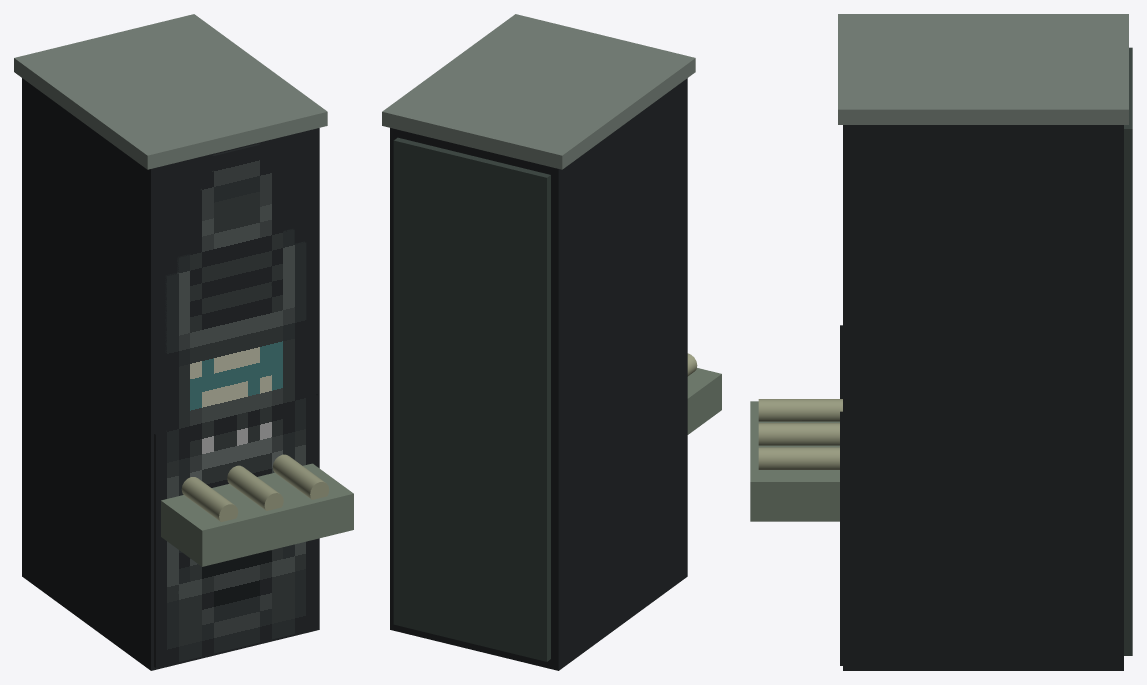
Rendered from CMU3DInteriorVehicleHumveeAmmoLoader.glb.
3 views of the same model, side by side, from view 1: azimuth 30°, elevation 25°; view 2: azimuth 150°, elevation 25°; view 3: azimuth 270°, elevation 25° (orthographic). The views are drawn at different scales.
Parts seen in each view (by area): view 1: closed equipment casing, source equipment controls, reinforced top, loading tray, feed roller (×3); view 2: rear service plate, closed equipment casing, reinforced top, loading tray; view 3: closed equipment casing, reinforced top, loading tray, feed roller (×3), rear service plate, source equipment controls.
Part boxes in pixels (x1=…): closed equipment casing: x1=22, y1=78, x2=319, y2=670; source equipment controls: x1=154, y1=144, x2=317, y2=667; reinforced top: x1=14, y1=14, x2=327, y2=169; loading tray: x1=161, y1=463, x2=353, y2=566; feed roller (×3): x1=181, y1=454, x2=329, y2=522; rear service plate: x1=393, y1=137, x2=550, y2=661; closed equipment casing: x1=390, y1=78, x2=687, y2=670; reinforced top: x1=382, y1=14, x2=695, y2=169; loading tray: x1=687, y1=368, x2=721, y2=434; closed equipment casing: x1=843, y1=125, x2=1123, y2=670; reinforced top: x1=838, y1=14, x2=1128, y2=124; loading tray: x1=750, y1=401, x2=839, y2=521; feed roller (×3): x1=758, y1=399, x2=842, y2=469; rear service plate: x1=1124, y1=47, x2=1132, y2=655; source equipment controls: x1=840, y1=325, x2=842, y2=665.
Size of the model in its own units: 0.4675 by 1.29 by 0.7894.
Materials: 6 (1 with a texture image).
